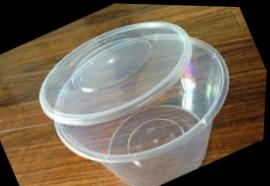plastic: (16, 1, 267, 186)
